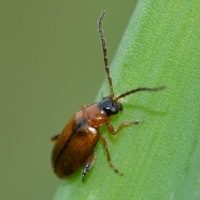insect: (51, 11, 164, 177)
